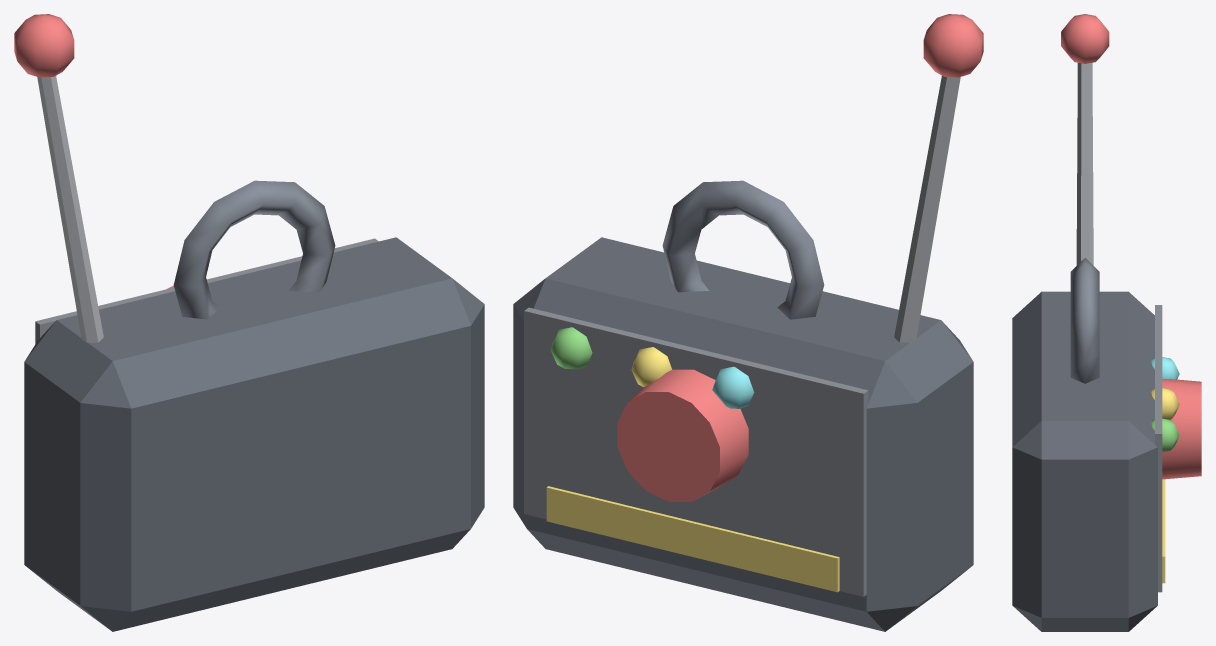
Rendered from DoomsdayDevice.fbx.
The picture shows the model from 3 angles, left to right: view 1: azimuth 30°, elevation 25°; view 2: azimuth 150°, elevation 25°; view 3: azimuth 270°, elevation 25°; orthographic projection. The views are drawn at different scales.
Parts seen in each view (by area): view 1: DoomsdayDevice; view 2: DoomsdayDevice; view 3: DoomsdayDevice.
Boxes of the visible parts, x1=… form: DoomsdayDevice: x1=14, y1=14, x2=484, y2=631; DoomsdayDevice: x1=513, y1=14, x2=983, y2=631; DoomsdayDevice: x1=1012, y1=14, x2=1201, y2=631.
Size of the model in its own units: 0.5433 by 0.715 by 0.26.
